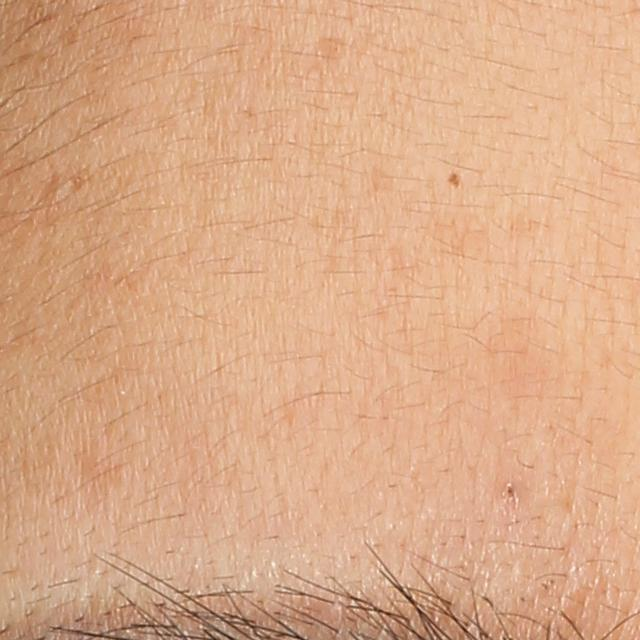comedo: (500, 484, 516, 501)
nevus: (445, 171, 464, 191)
